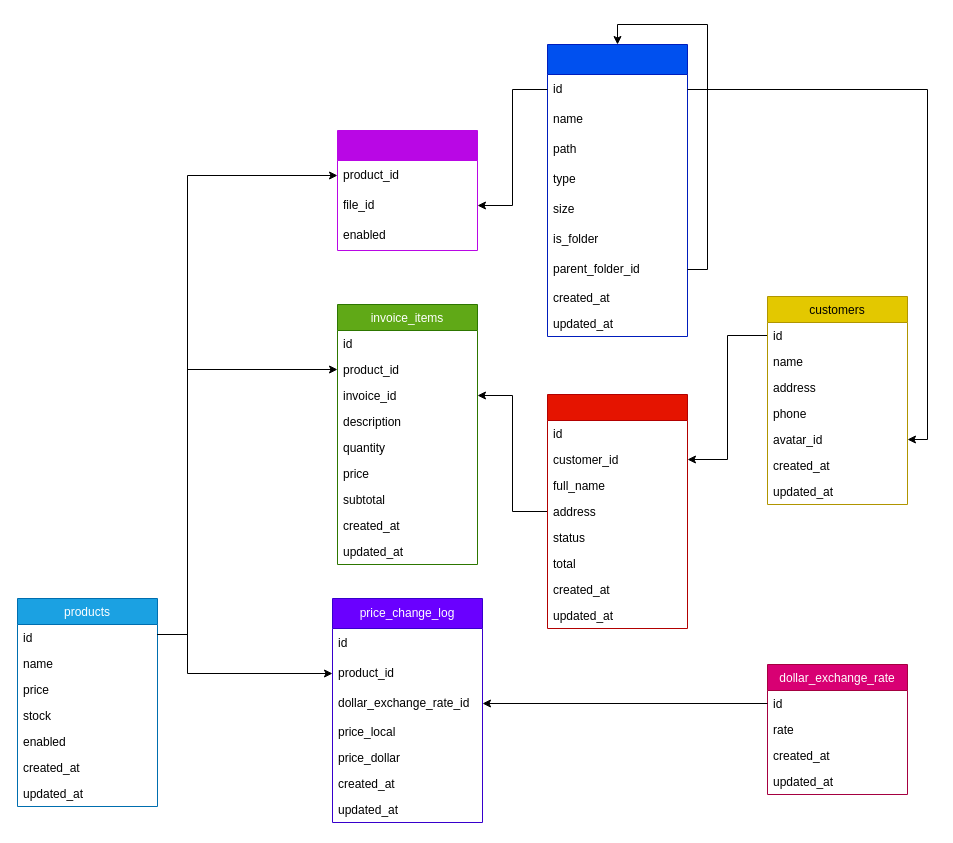
The diagram is 953 pixels wide and 843 high, and some of its shapes have lost their labels. Here are the shapes that lost their labels. From the top down, the box of each, then its label:
(336, 130, 478, 250): image_products
(546, 44, 688, 336): files
(546, 394, 688, 628): invoice
